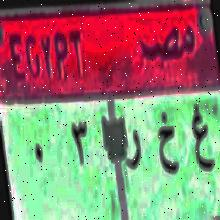0: (32, 133, 45, 174)
3: (69, 116, 89, 173)
ghayn: (188, 102, 214, 178)
khaa: (156, 108, 180, 178)
raa: (123, 123, 142, 178)
